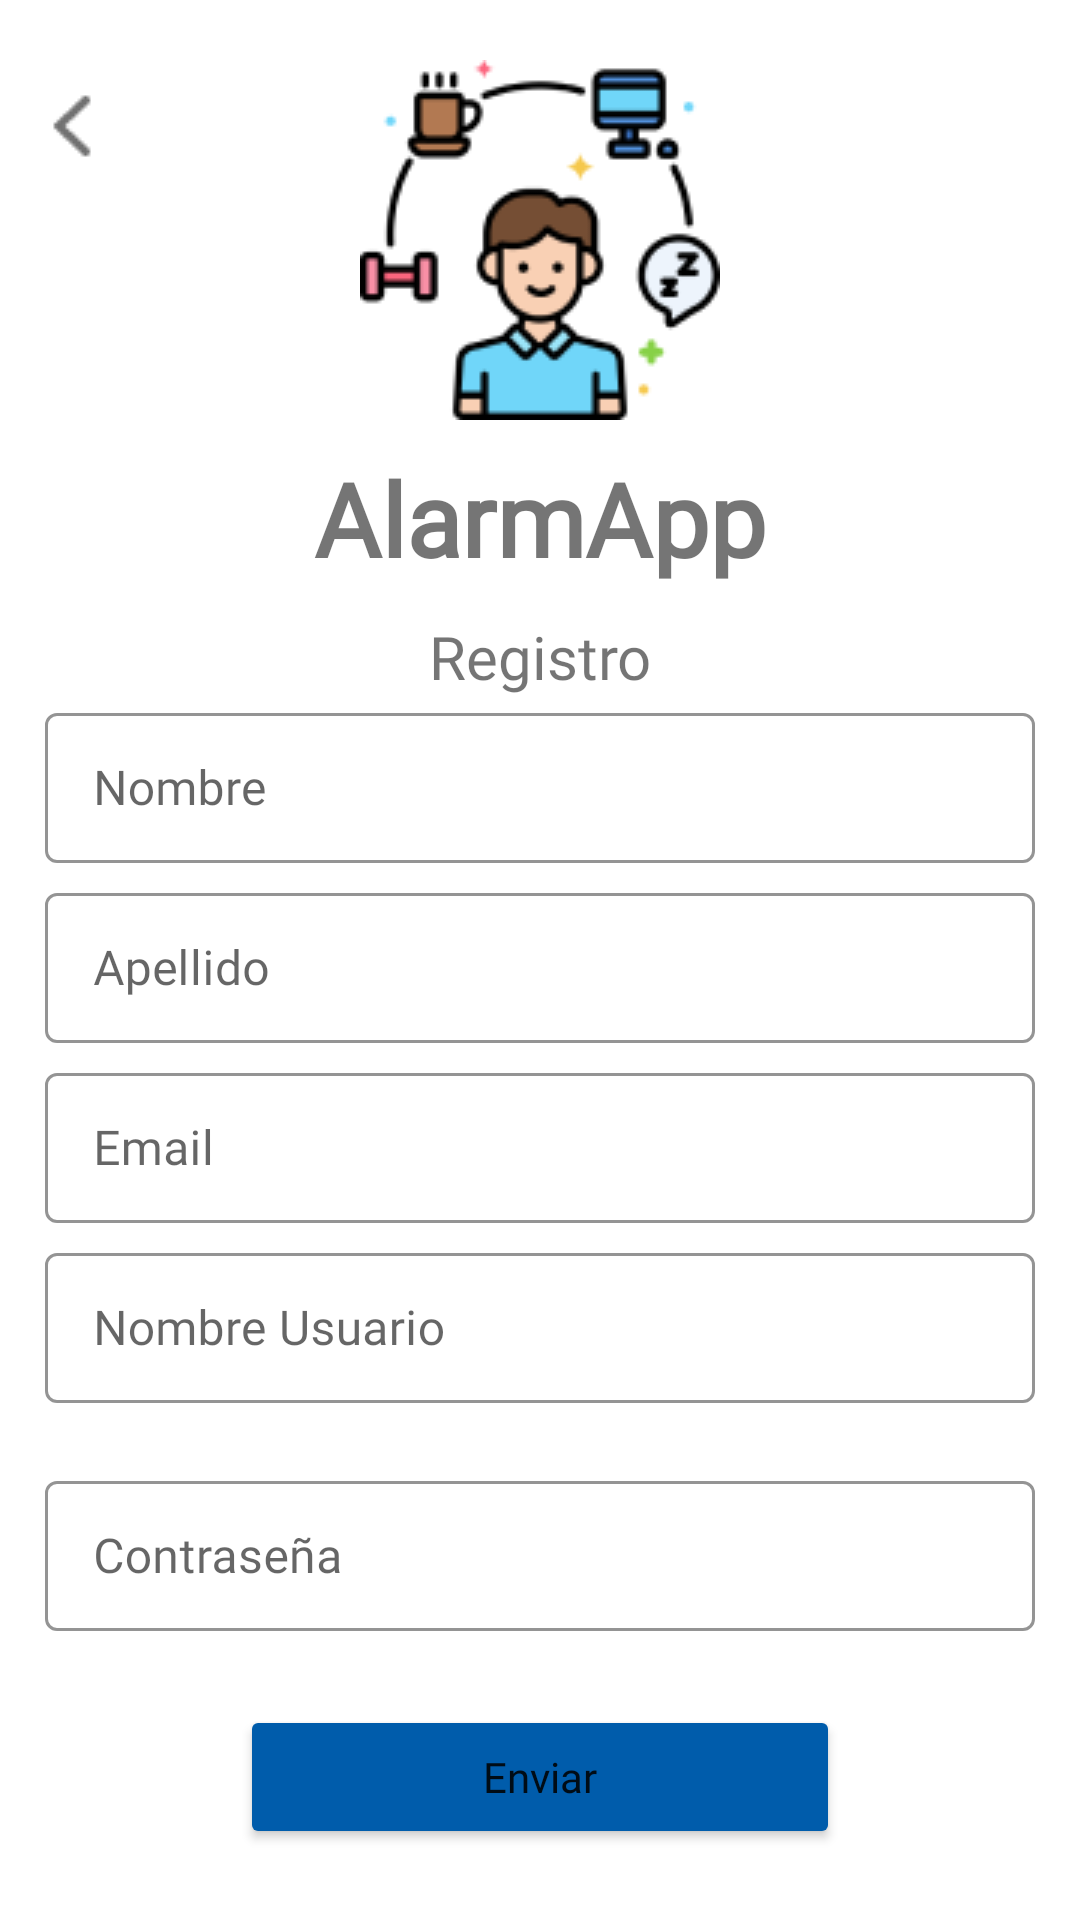

Icon bounding boxes for this 1080px×1920px phone screenshot, format bbox=[x1, y1, x2, y2]:
back: bbox=[53, 95, 91, 157]
